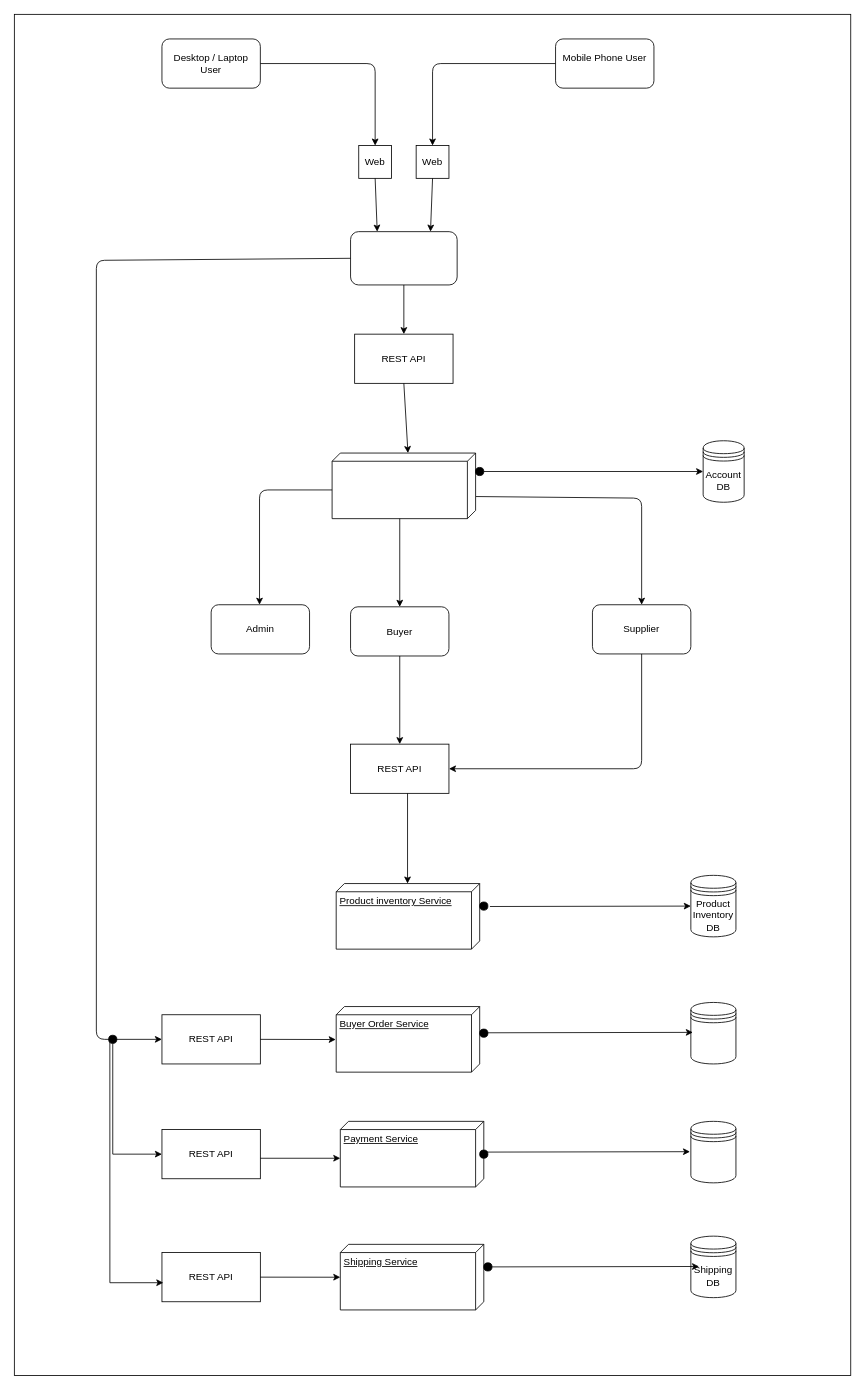
This 865x1390 diagram has some shape labels left out. The centre of each missing label's shape, as x and y in pixels:
"Account Service" belongs at (x=403, y=485).
"Buyer Order DB" belongs at (x=713, y=1033).
"Ecommerse Web App User Interface" belongs at (x=403, y=258).
"Payment DB" belongs at (x=713, y=1152).
